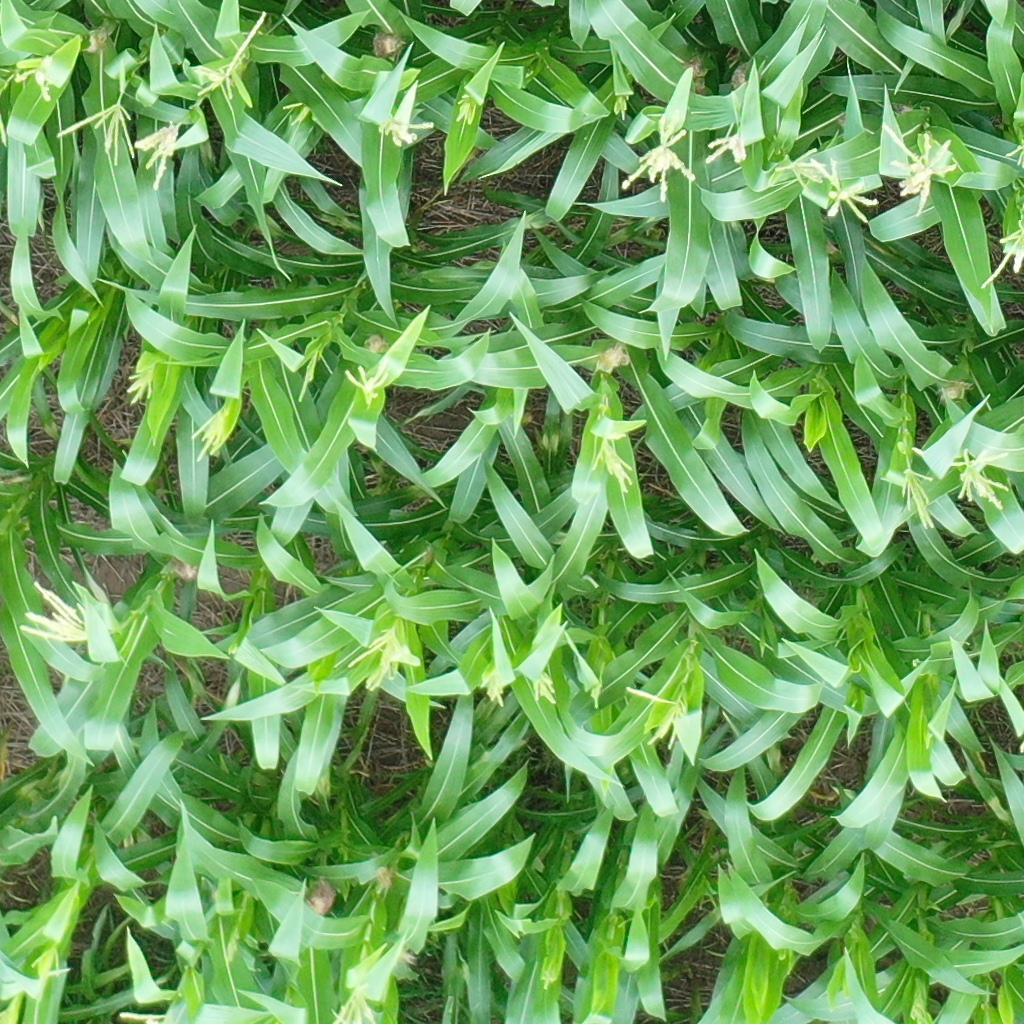Tassel: (619, 103, 698, 203), (879, 115, 957, 216), (186, 7, 267, 104), (939, 435, 1015, 514), (810, 151, 883, 226), (621, 678, 694, 753), (52, 101, 141, 161), (15, 576, 92, 645), (346, 626, 419, 696), (124, 119, 181, 189), (584, 433, 639, 497), (187, 395, 238, 464), (977, 223, 1024, 292), (899, 462, 942, 531), (5, 52, 60, 103), (374, 111, 435, 152), (772, 143, 826, 189), (703, 122, 752, 168), (326, 981, 376, 1024), (343, 362, 392, 403), (476, 659, 512, 708), (291, 349, 322, 405), (25, 945, 64, 988), (120, 371, 159, 407), (278, 95, 316, 130), (530, 668, 564, 705), (452, 90, 480, 130), (908, 990, 933, 1024), (583, 674, 605, 707), (611, 91, 633, 121), (1001, 143, 1024, 169)
